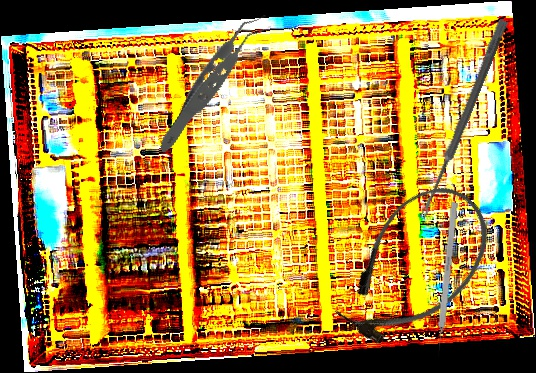Cannula: (316, 165, 512, 367)
Hook Surgical: (434, 202, 459, 357)
Surgical Spoon: (417, 18, 509, 221)
Tissue Forceps: (128, 12, 301, 155)
